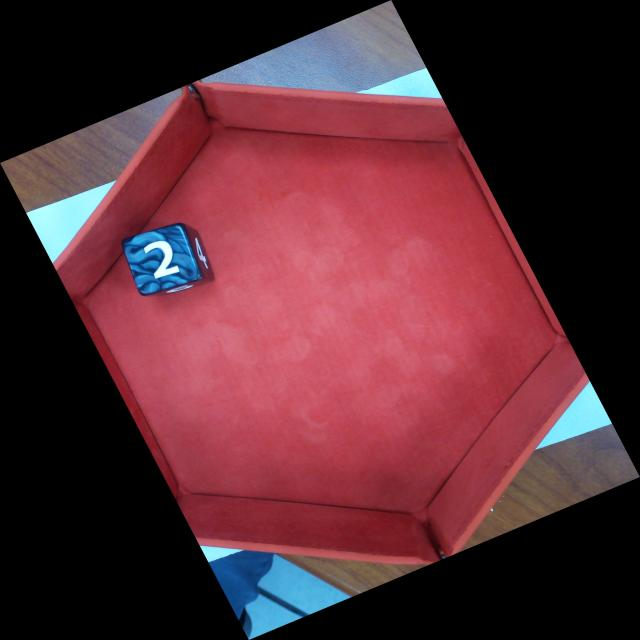dice: (119, 222, 204, 298)
